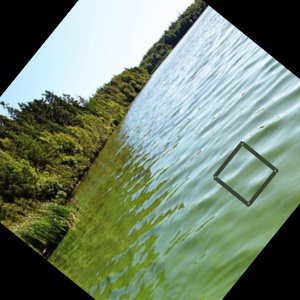square: (213, 140, 279, 207)
